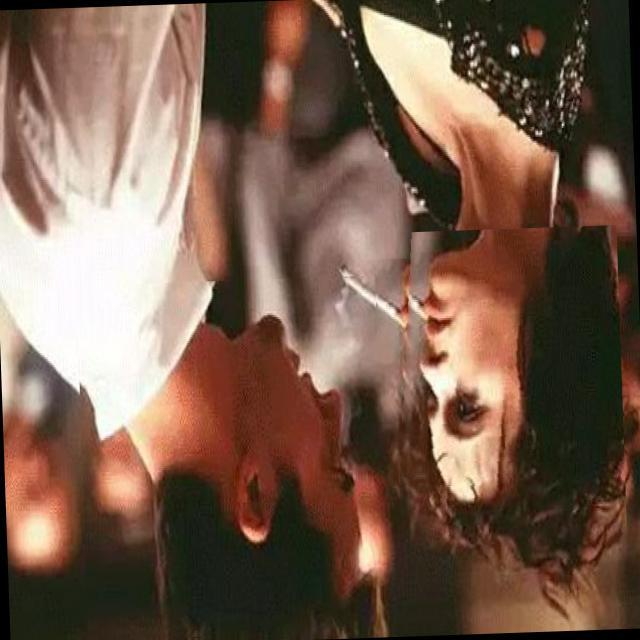cigarette: (328, 258, 421, 348)
